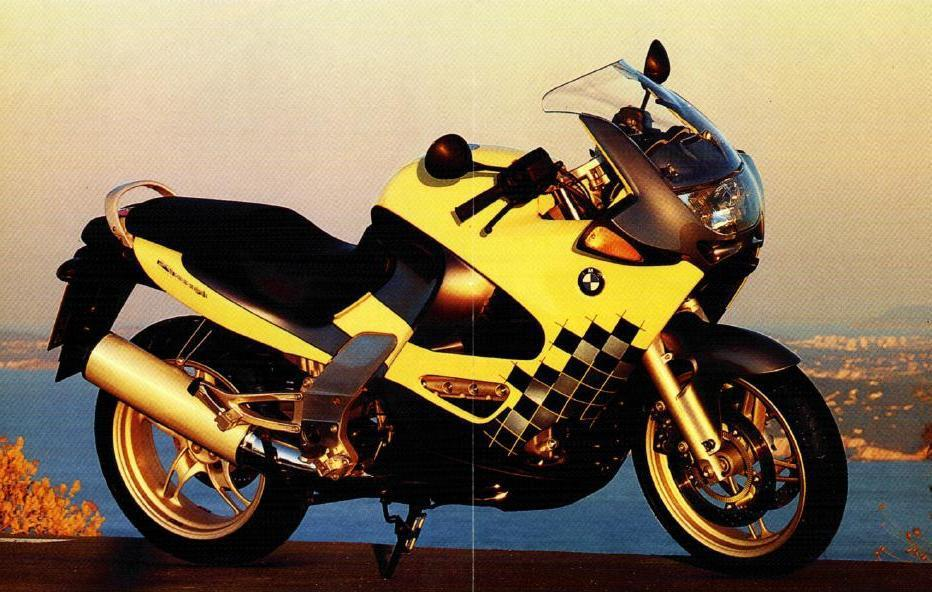motorcycle: (23, 16, 872, 592)
